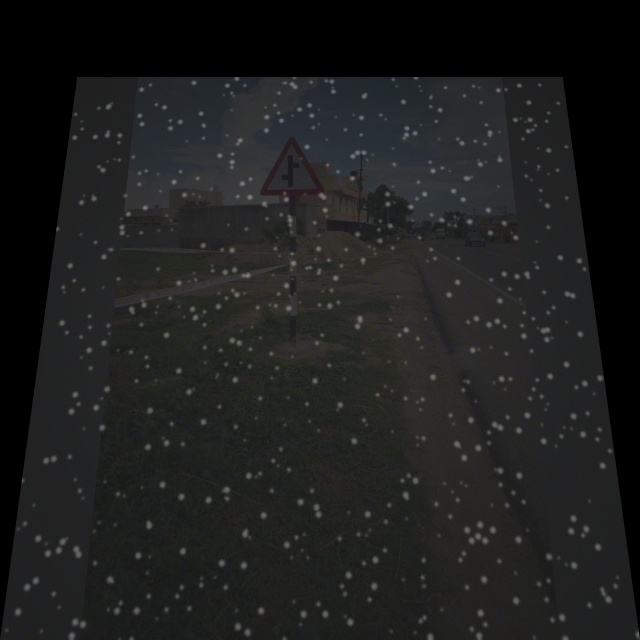Staggered_Intersection: (257, 133, 334, 202)
